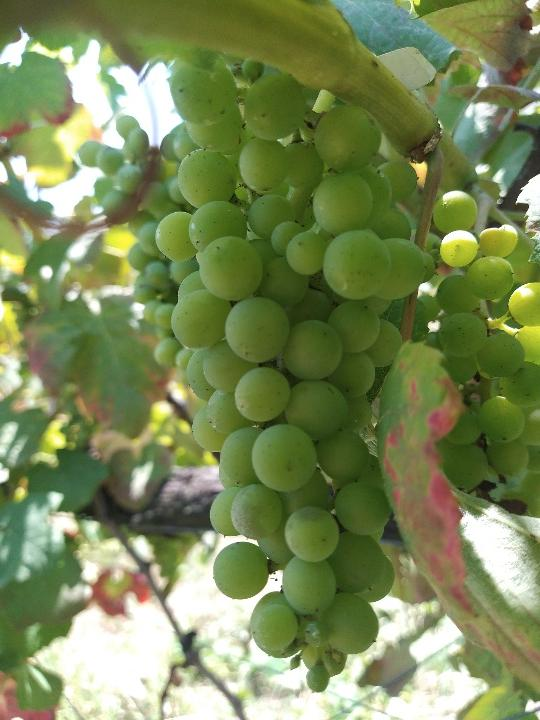grape: (155, 53, 436, 693)
